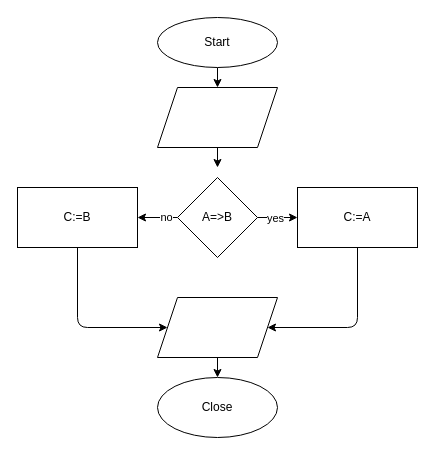
The diagram is 435 pixels wide and 455 high, and some of its shapes have lost their labels. Here are the shapes that lost their labels. From the top down, the box of each, then its label:
(156, 86, 278, 148): Input A, B
(156, 296, 278, 358): Output C
